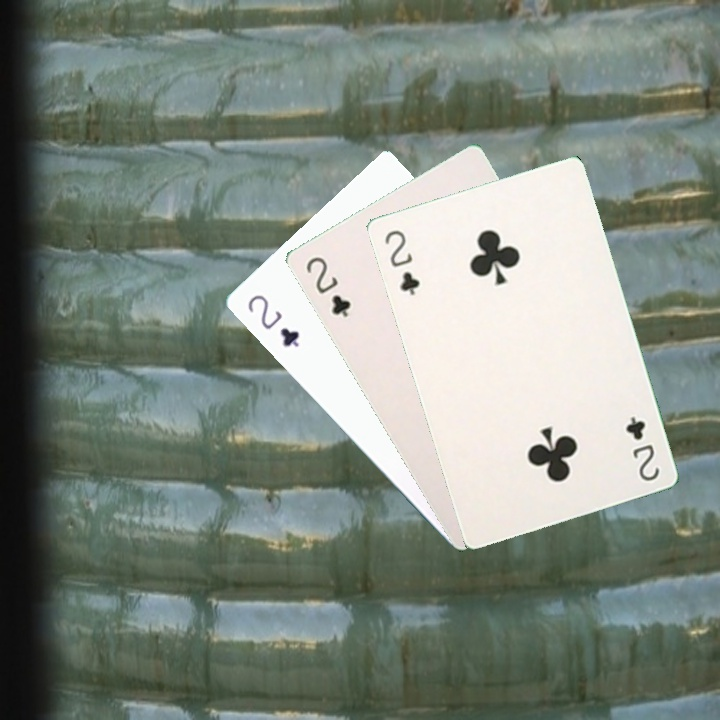2c: (301, 252, 354, 320), (243, 290, 302, 350), (380, 226, 423, 298), (621, 412, 662, 484)
